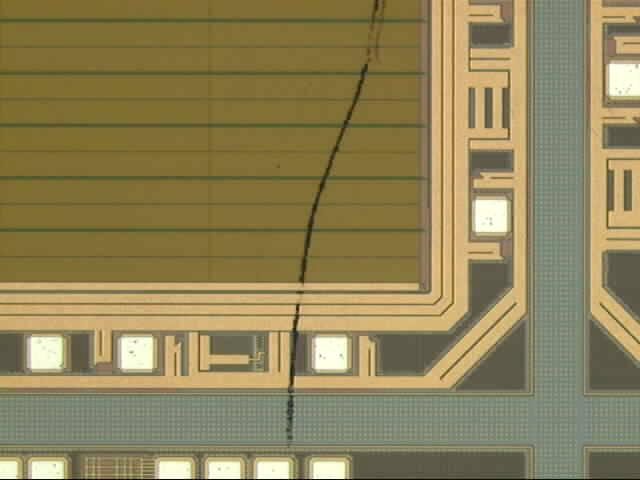SCRATCH: (280, 1, 389, 471)
